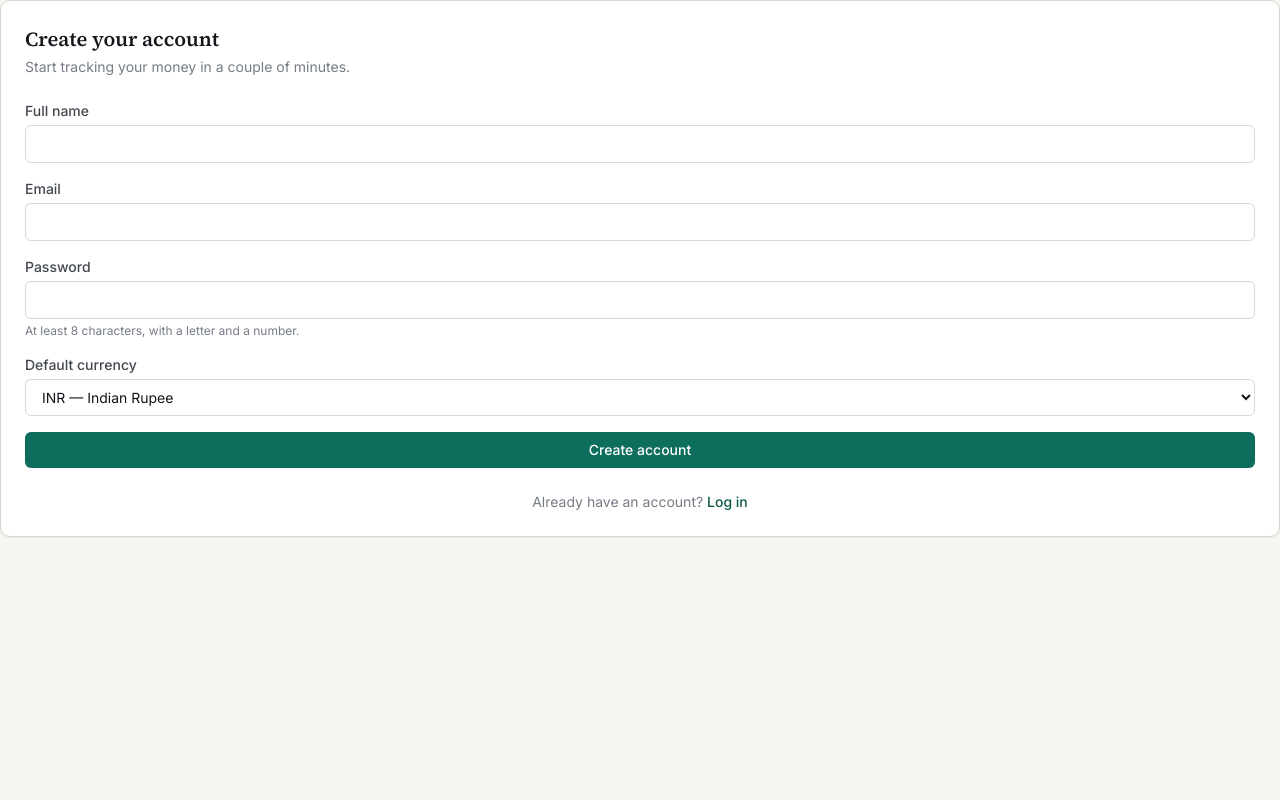
Test case: RegisterPage › surfaces a server-side validation error to the user
The width and height of the screenshot is (1280, 800).
In the field labelled "Full name": (640, 144) [25,125,1255,163], type "Dup User"
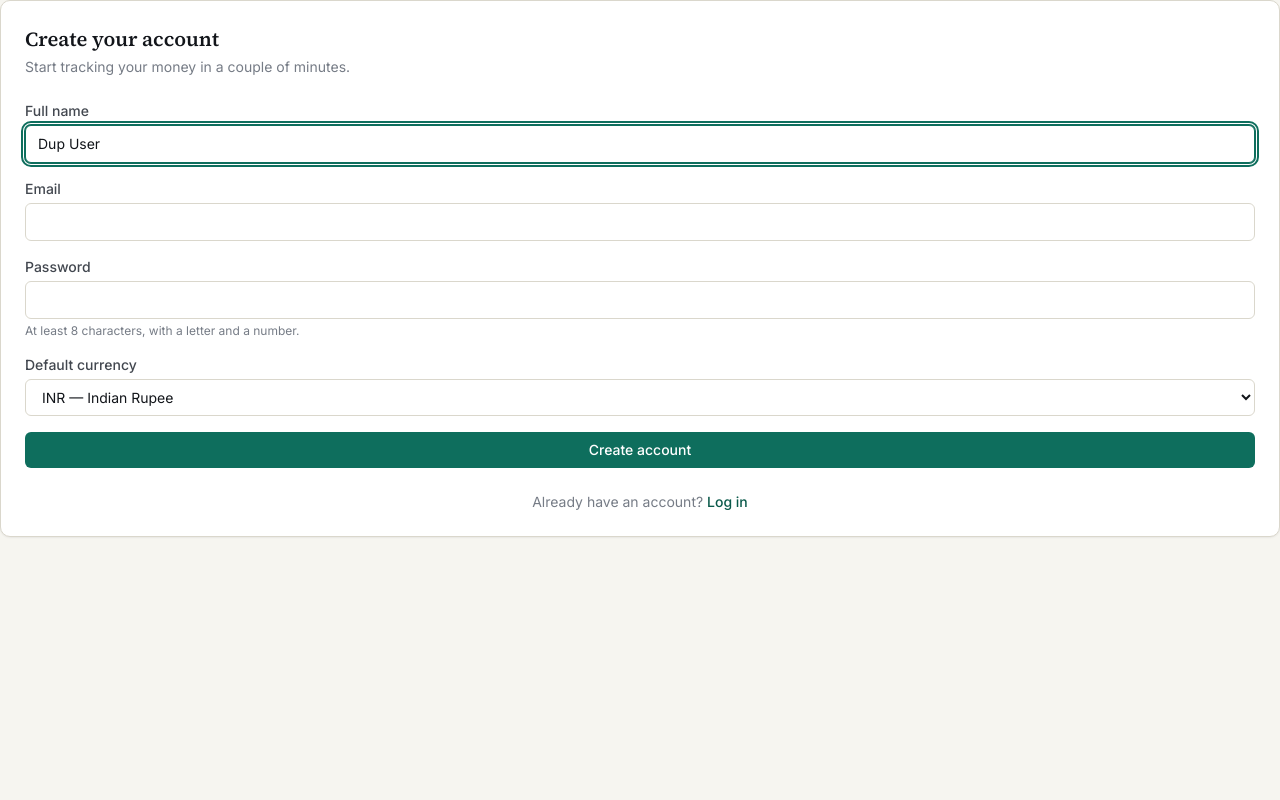
In the field labelled "Email": (640, 222) [25,203,1255,241], type "dup@user.com"
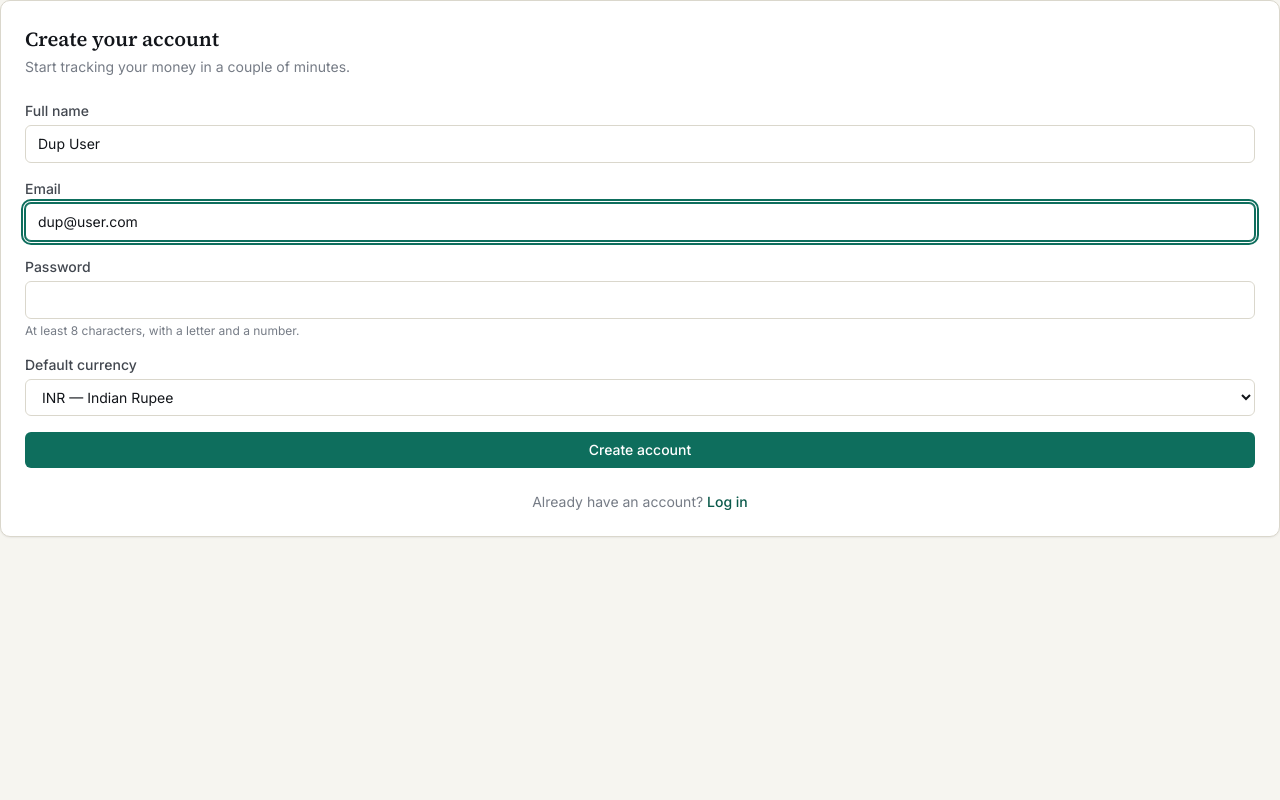
In the password field labelled "Password": (640, 300) [25,281,1255,319], type "Password123"
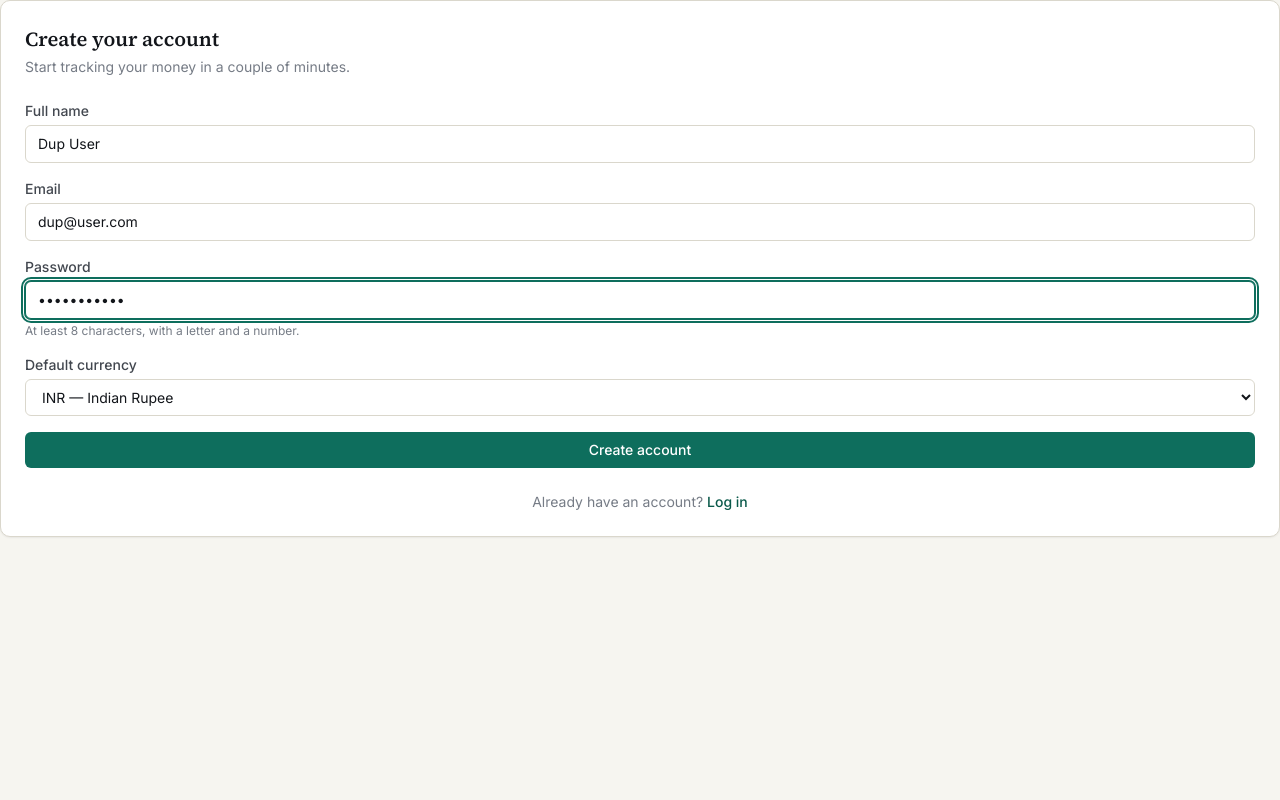
Click the button "Create account": (640, 450) [25,432,1255,468]
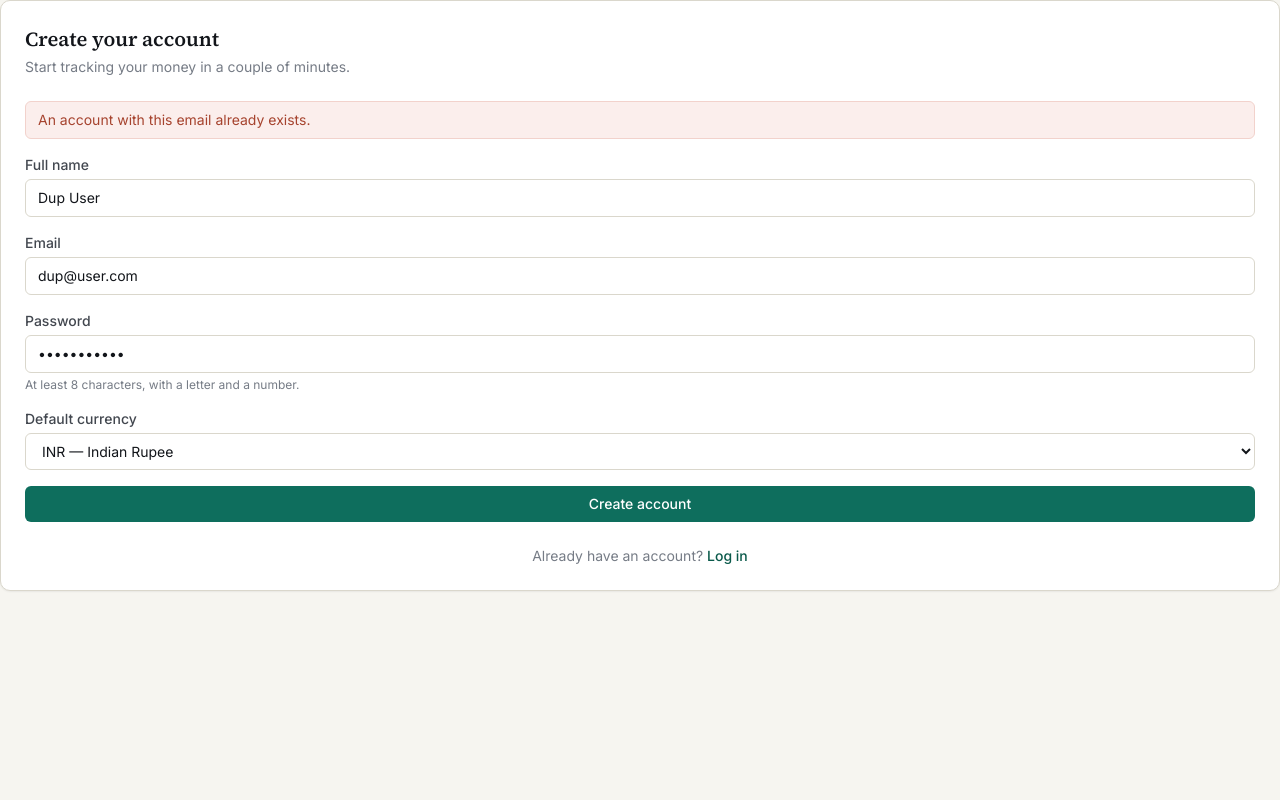
Expected: the message shows "already exists", [38,111,310,128]
